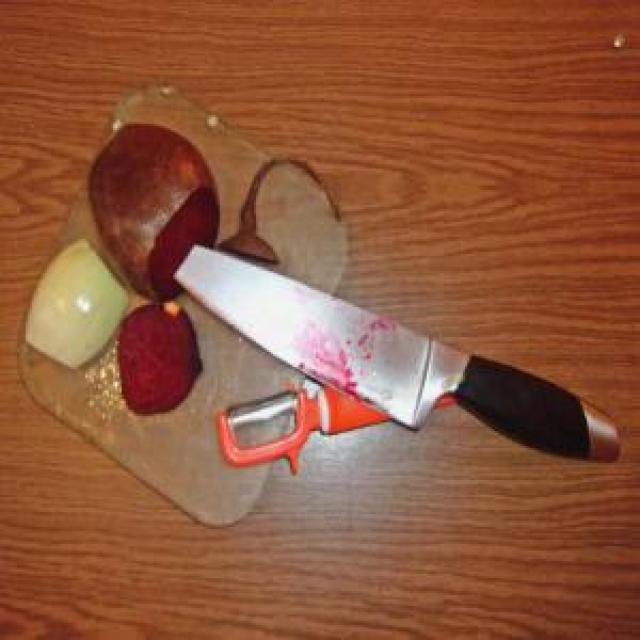knife: (153, 241, 620, 463)
